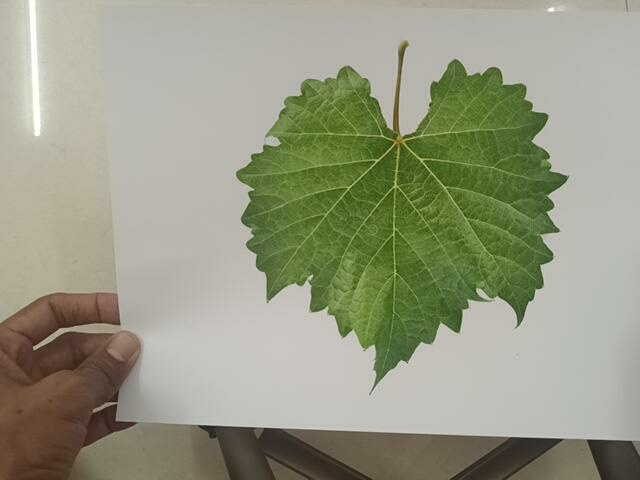Grape_Healthy: (235, 38, 580, 389)
